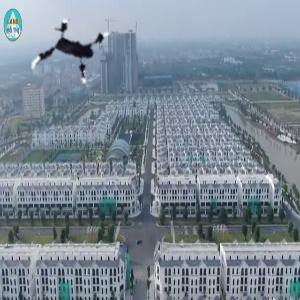drone: (24, 7, 127, 110)
